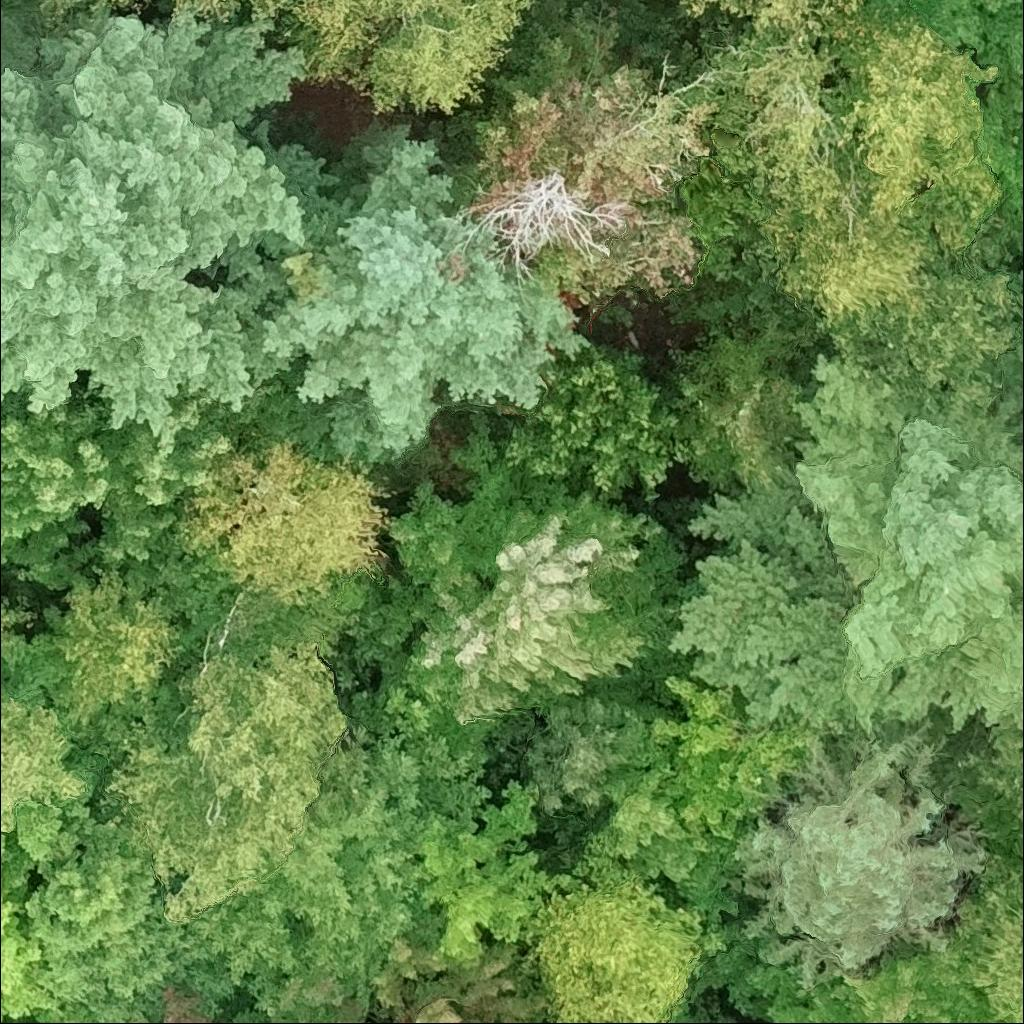crown: (660, 350, 1023, 824), (0, 0, 343, 439), (256, 122, 590, 469), (348, 456, 695, 752), (185, 684, 495, 1007), (733, 717, 996, 1004), (475, 0, 721, 306), (92, 636, 351, 923), (753, 189, 1023, 412), (0, 391, 229, 595), (818, 8, 1003, 231), (0, 563, 202, 757), (169, 438, 397, 609), (414, 777, 581, 968), (269, 0, 538, 116), (503, 342, 696, 503), (520, 873, 723, 1023), (645, 674, 816, 848), (701, 30, 844, 216), (666, 314, 807, 497), (767, 943, 992, 1023), (369, 932, 548, 1023), (936, 850, 1023, 1023), (0, 684, 88, 835), (0, 886, 60, 1023), (668, 0, 868, 35), (228, 974, 369, 1023), (131, 957, 233, 1023), (111, 0, 295, 21), (0, 597, 37, 675), (993, 310, 1023, 392), (21, 0, 105, 18), (1008, 256, 1023, 291)
